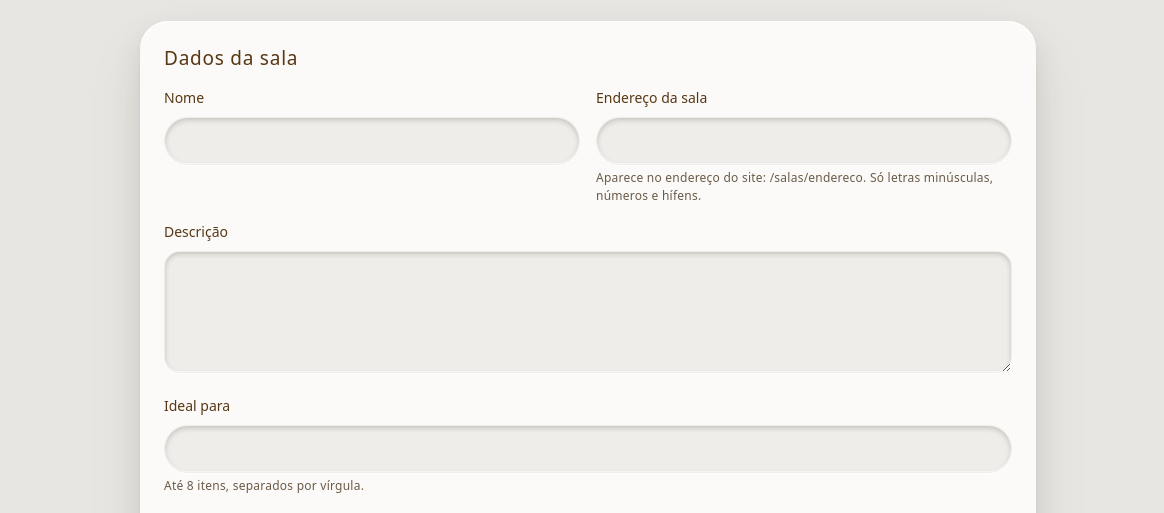
Test case: RoomEditPage create (GES-103) › suggests the address from the name, creates the room and opens its editor
Type "Sala Ágata" into the field labelled "Nome". click: {"x": 372, "y": 141}
box: x1=164 y1=117 x2=580 y2=165
(page scrolled)
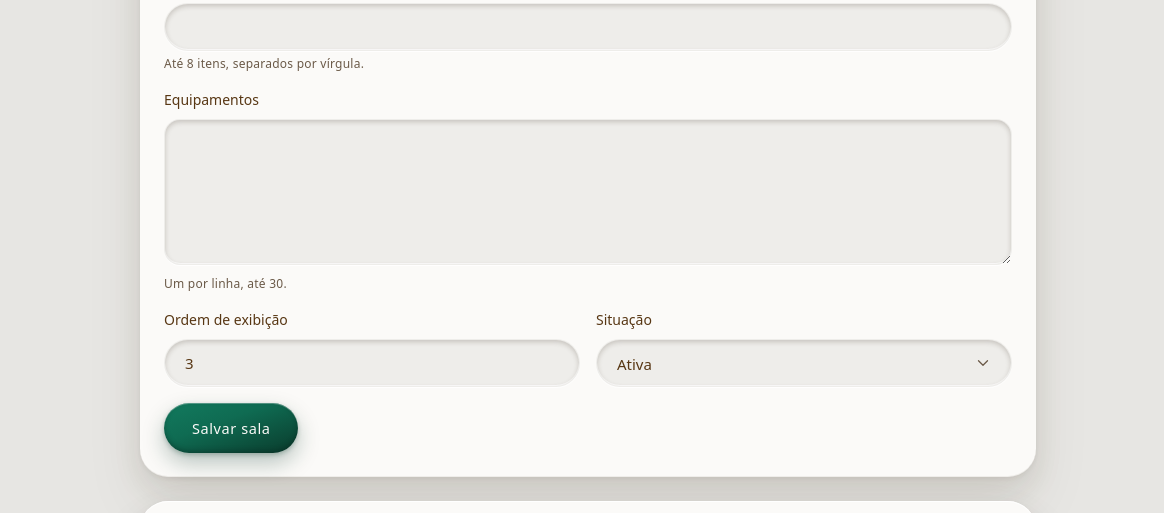
Click the button "Salvar sala". click: {"x": 231, "y": 428}
box: x1=164 y1=403 x2=298 y2=453
(page scrolled)
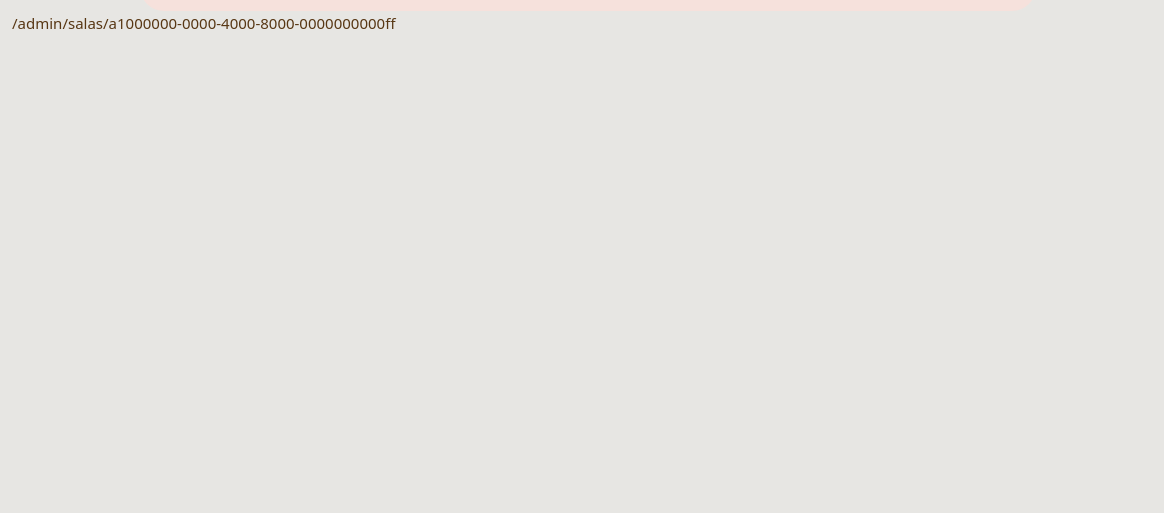
Expected: the text with test id "location" reads "/admin/salas/a1000000-0000-4000-8000-0000000000ff", x1=12 y1=13 x2=396 y2=33
